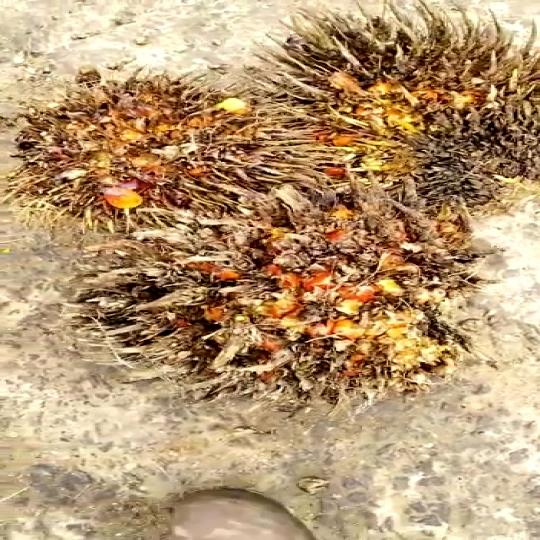terlalu masak: (66, 185, 481, 404), (231, 0, 540, 186), (0, 78, 310, 232)
